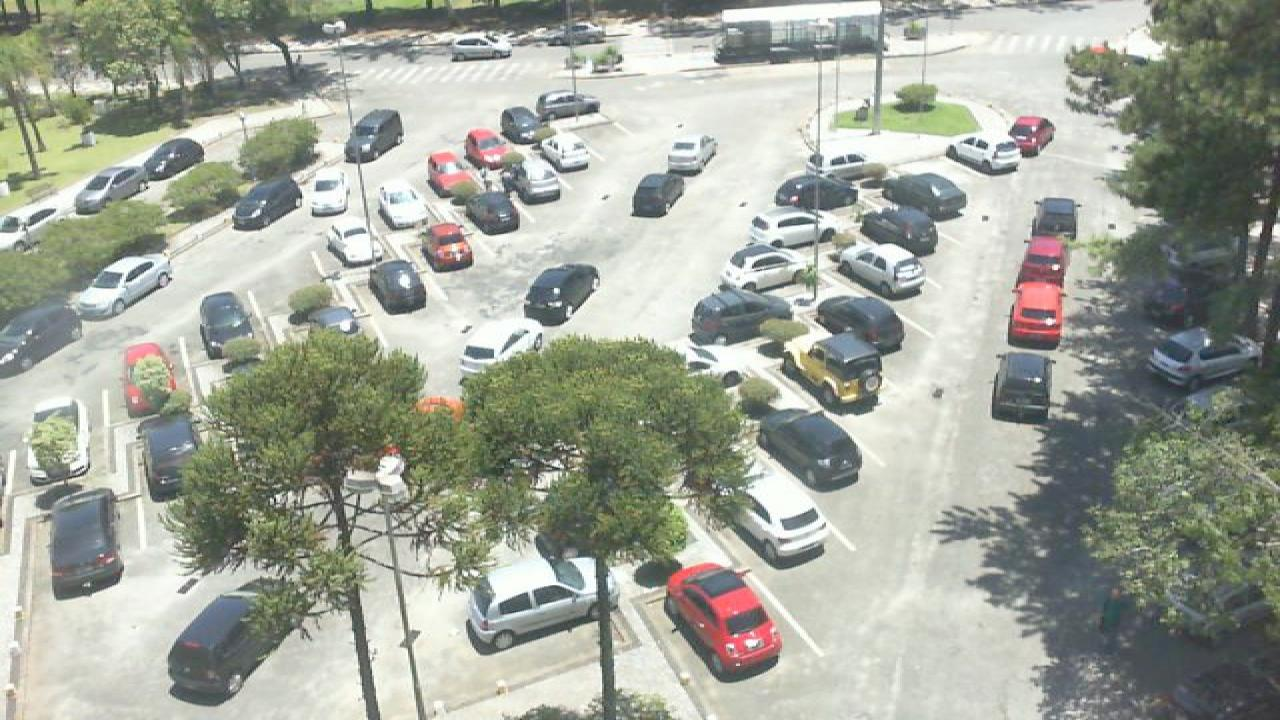Car: (664, 561, 784, 683), (464, 554, 610, 654), (164, 592, 288, 706), (714, 452, 830, 566), (48, 488, 128, 598), (758, 408, 864, 490), (780, 332, 886, 412), (1146, 326, 1262, 390), (70, 253, 172, 320), (20, 393, 94, 485), (0, 300, 88, 377), (136, 406, 202, 498), (810, 294, 906, 354), (690, 286, 796, 340), (458, 318, 546, 380), (834, 242, 928, 300), (520, 262, 602, 326), (990, 350, 1056, 424), (716, 245, 808, 295), (878, 171, 970, 221), (196, 290, 258, 364), (856, 204, 940, 256), (122, 340, 180, 415), (748, 208, 842, 254), (1006, 281, 1066, 350), (228, 178, 304, 232), (340, 108, 406, 164), (72, 164, 144, 215), (366, 259, 430, 314), (944, 133, 1024, 174), (1010, 236, 1072, 288), (772, 176, 860, 212), (0, 204, 66, 250), (138, 137, 206, 181), (806, 150, 894, 184), (322, 216, 380, 266), (630, 170, 688, 218), (510, 154, 566, 203), (422, 221, 476, 271), (462, 190, 522, 235), (428, 151, 480, 198), (374, 184, 426, 230), (664, 134, 718, 176), (1004, 114, 1058, 156), (306, 168, 352, 216), (462, 127, 514, 169), (538, 133, 592, 173), (1032, 195, 1080, 240), (498, 106, 550, 144), (532, 90, 602, 118), (448, 34, 514, 60), (548, 24, 602, 45)
